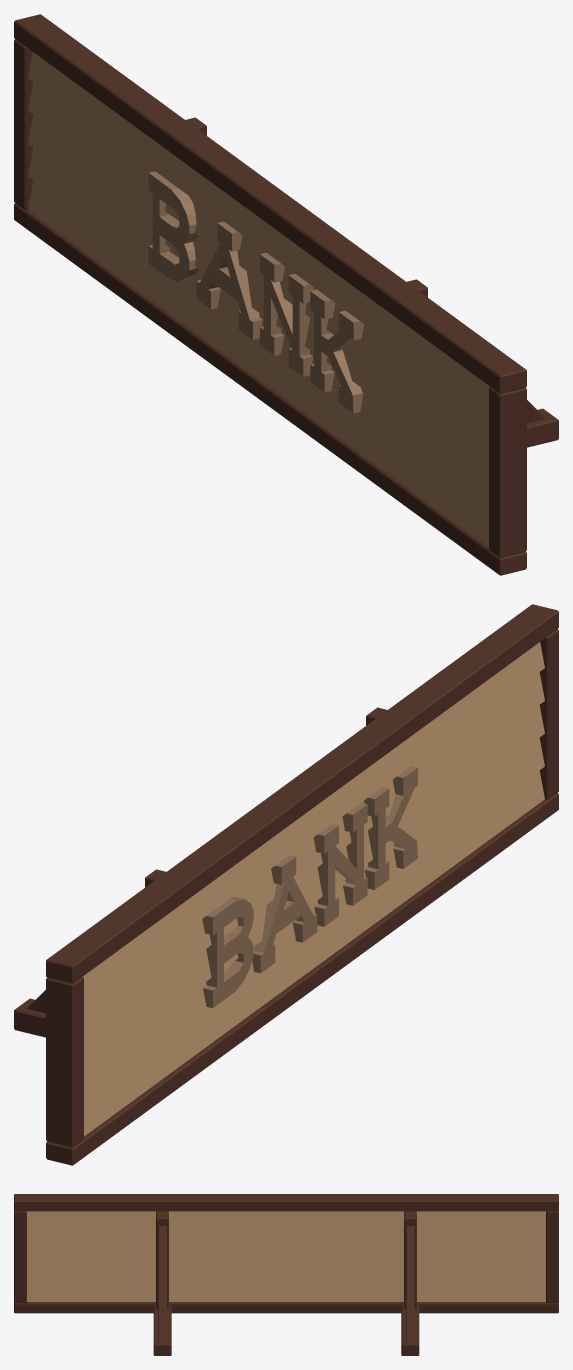
The model's file is bank-sign-a.glb.
3 renders of one model, top to bottom at view 1: azimuth 30°, elevation 25°; view 2: azimuth 150°, elevation 25°; view 3: azimuth 270°, elevation 25°, orthographic. The views are drawn at different scales.
Visible parts, largest first — view 1: Bank Sign A (×3); view 2: Bank Sign A (×3); view 3: Bank Sign A (×2).
Boxes of the visible parts, x1,y1,x2,y2 form: Bank Sign A (×3): (14,14,558,575); Bank Sign A (×3): (14,604,558,1165); Bank Sign A (×2): (14,1194,558,1355).
Size of the model in its own units: 1.46 by 1.5 by 6.6.
